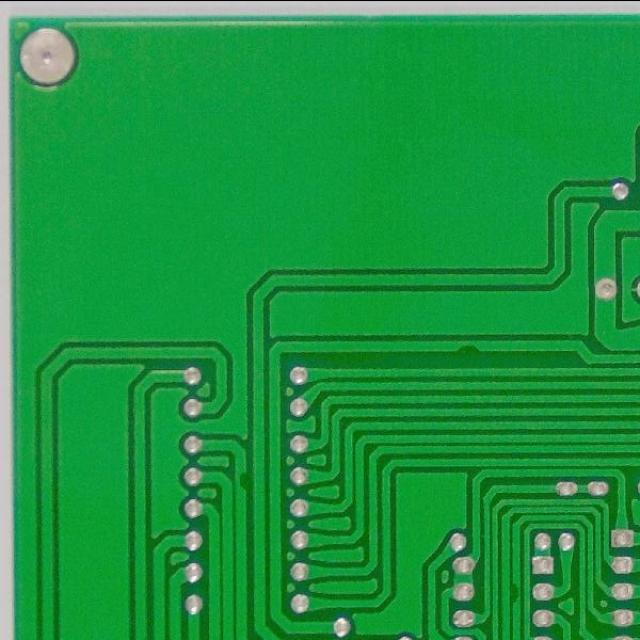MouseBite: (454, 338, 484, 355), (233, 467, 250, 496), (511, 579, 523, 607)
